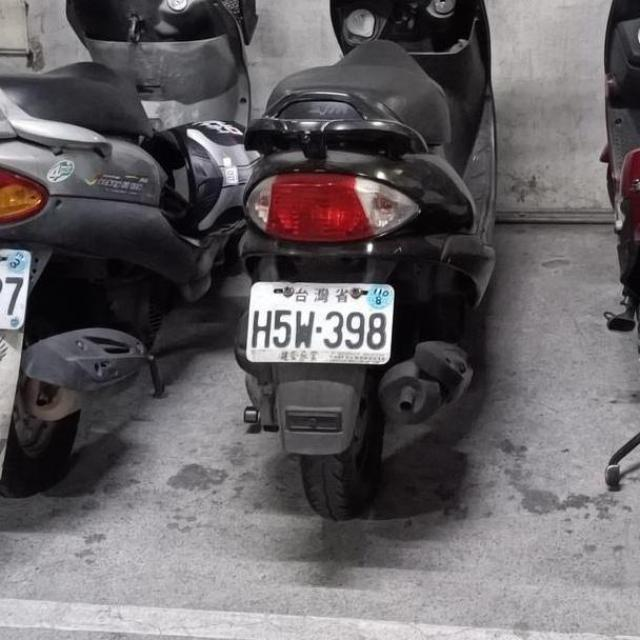W: (243, 275, 395, 366), (0, 228, 37, 337)
